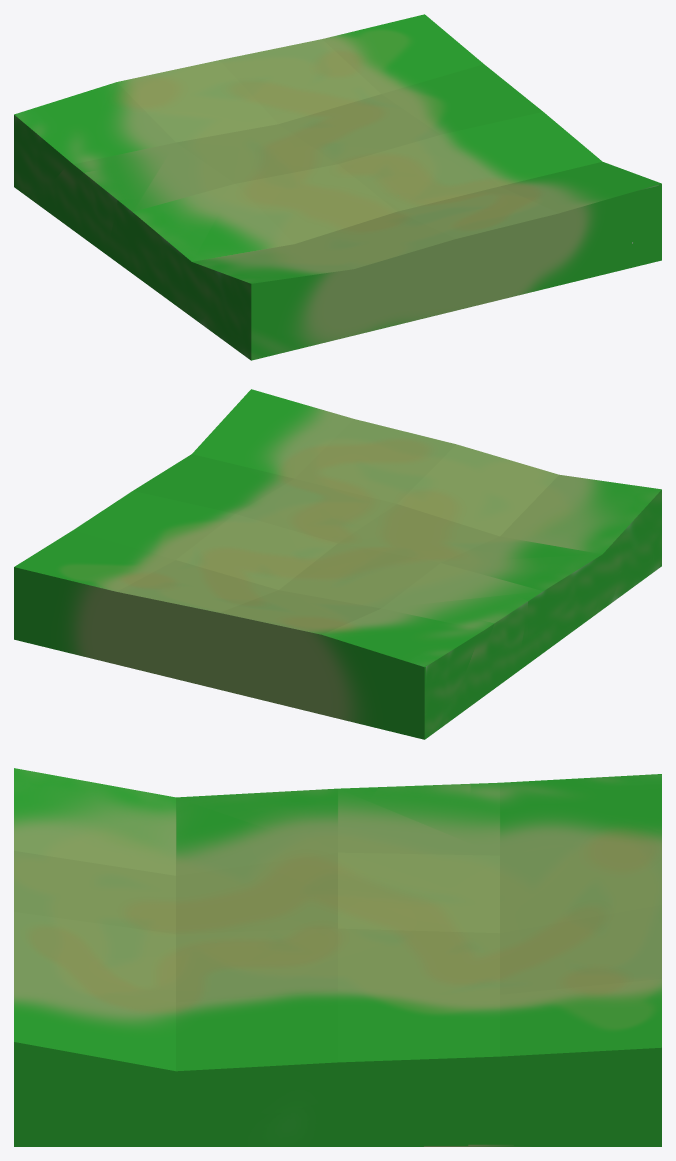
Rendered from Floor1.fbx.
3 views of the same model, one above another, from view 1: azimuth 30°, elevation 25°; view 2: azimuth 150°, elevation 25°; view 3: azimuth 270°, elevation 25° (orthographic). The views are drawn at different scales.
Parts seen in each view (by area): view 1: Cube; view 2: Cube; view 3: Cube.
Boxes of the visible parts, x1,y1,x2,y2 form: Cube: [14, 14, 661, 360]; Cube: [14, 389, 661, 739]; Cube: [14, 768, 661, 1146].
Size of the model in its own units: 200 by 37.2 by 200.
